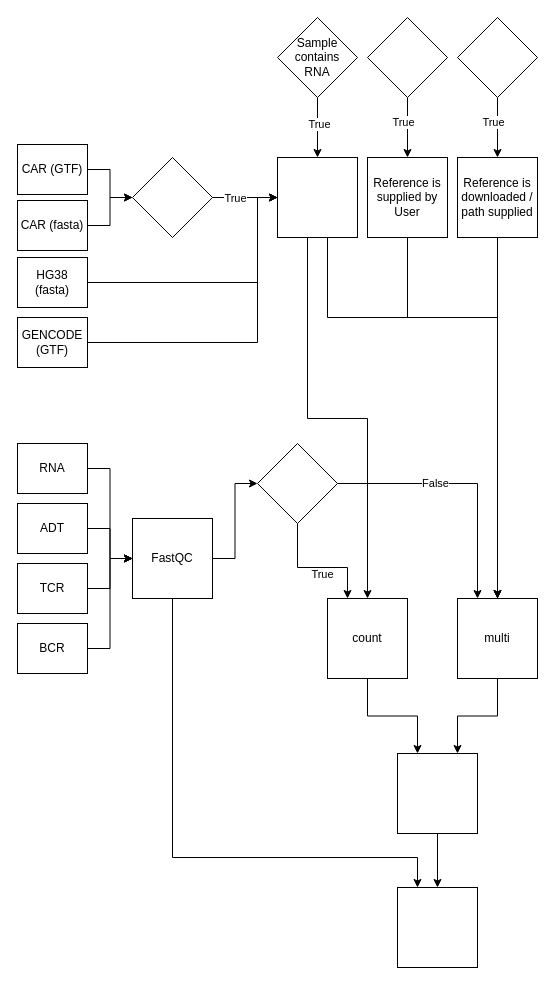
This 555x985 diagram has some shape labels left out. Here are the shapes that lost their labels. From the top down, the box of each, then its label:
(366, 16, 448, 98): Sample contains ADT
(456, 16, 538, 98): Sample contains TRC/BCR
(132, 156, 212, 238): Add CAR Sample?
(276, 156, 358, 238): mkgtf mkref
(256, 442, 338, 524): Samples = [RNA]
(396, 752, 478, 834): souporcell
(396, 886, 478, 968): MultiQC
